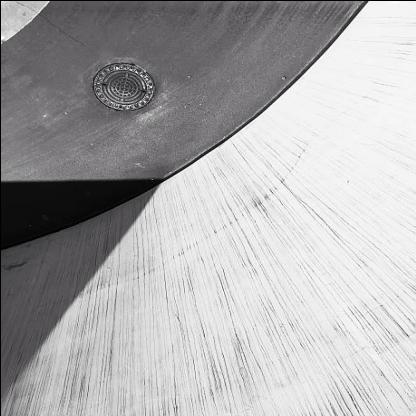manholes: (69, 44, 167, 113)
